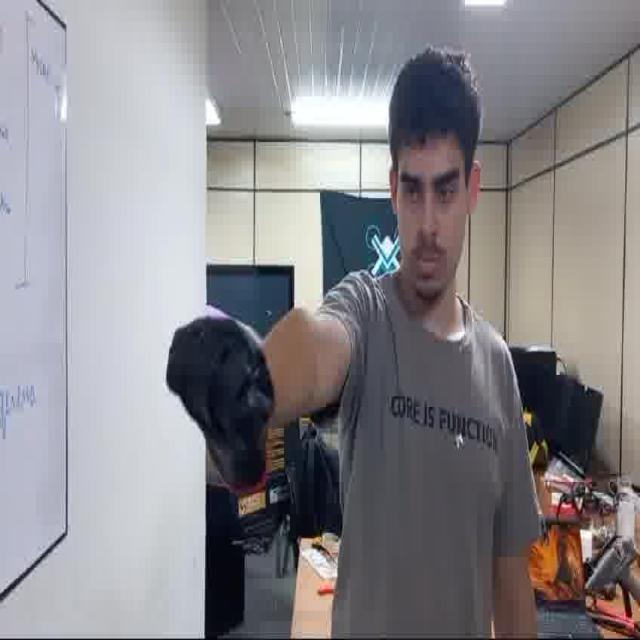Gloves: (159, 293, 291, 484)
